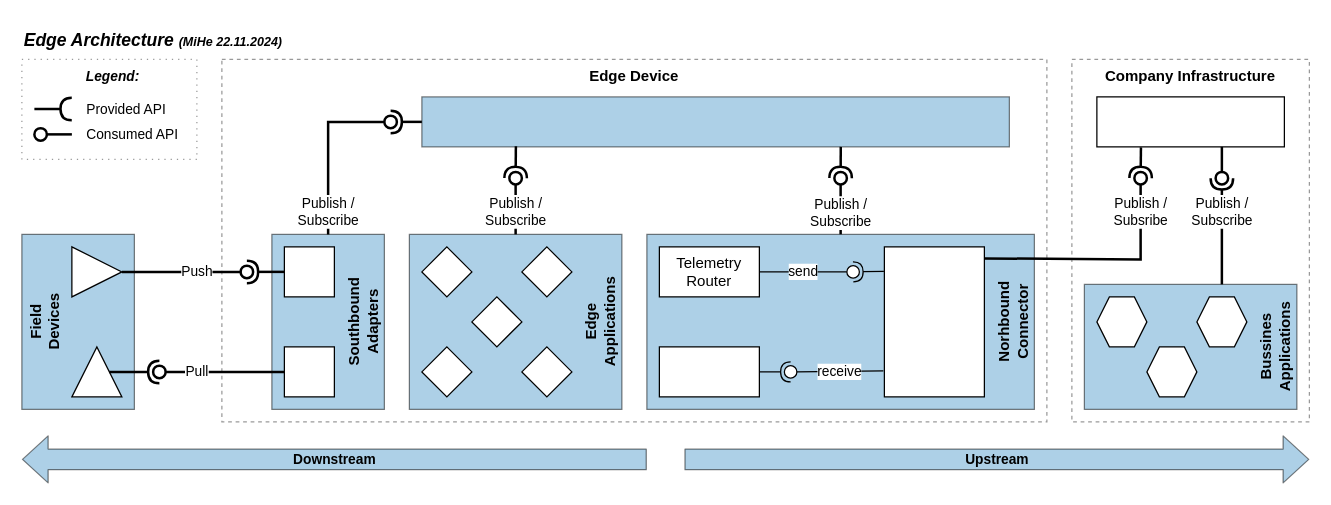
Some shapes in this 1331 by 505 pixel diagram are drawn without their labels. Here are the shapes that lost their labels. From the top down, the centre of each, then its label:
At (715,121): "Edge Messaging System".
At (1190,121): "Centralized Messaging System".
At (933,321): "Upstream Protocol Bridge".
At (708,371): "Command Router".
